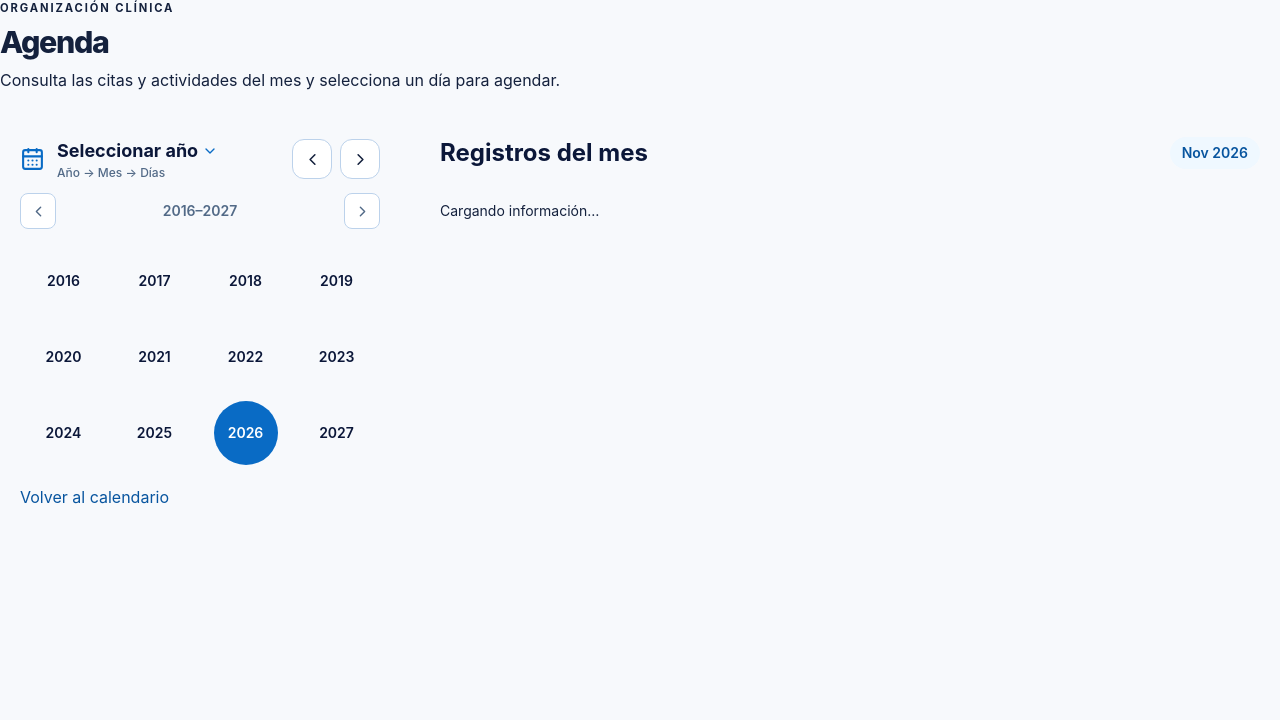
Scenario: AgendaPage consultation › selects a year, then a month, then shows the day grid without changing the booking flow
Earlier steps of the test are not shown.
Click the button "2026" at coordinates (246, 433), box [202,401,289,465]
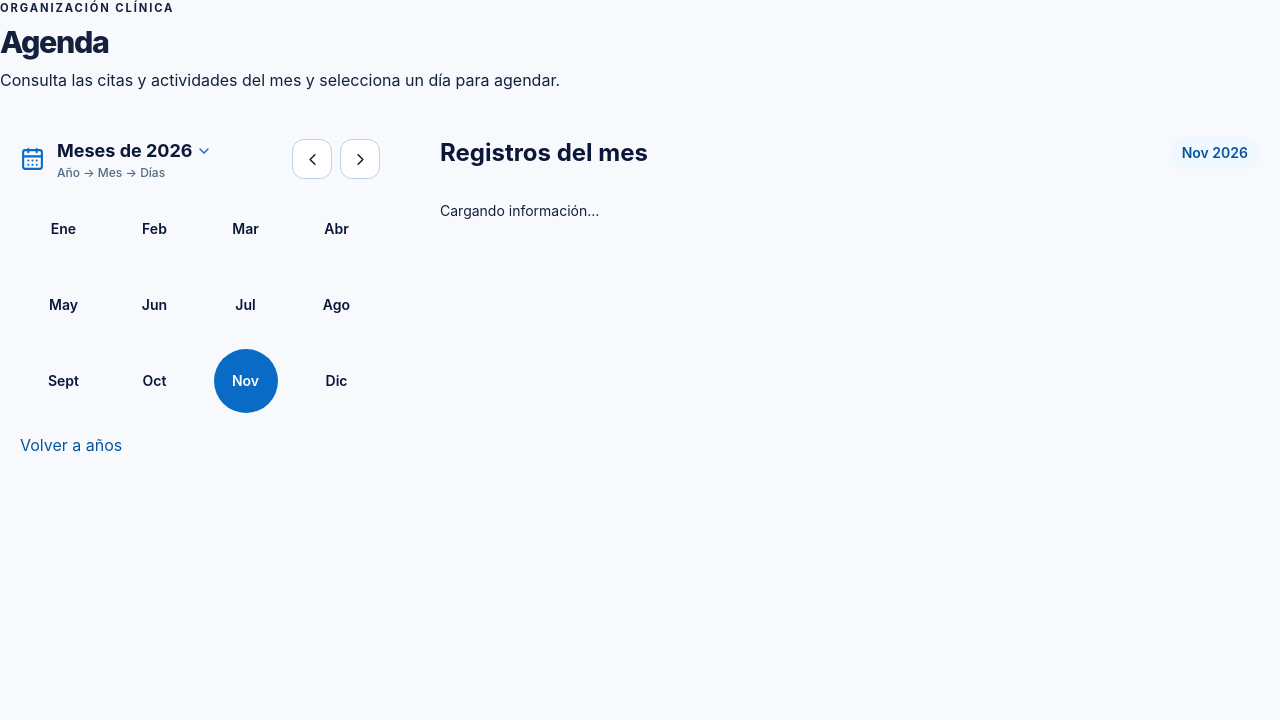
Click the button with aria-label "octubre" at coordinates (154, 381), box [111,349,198,413]
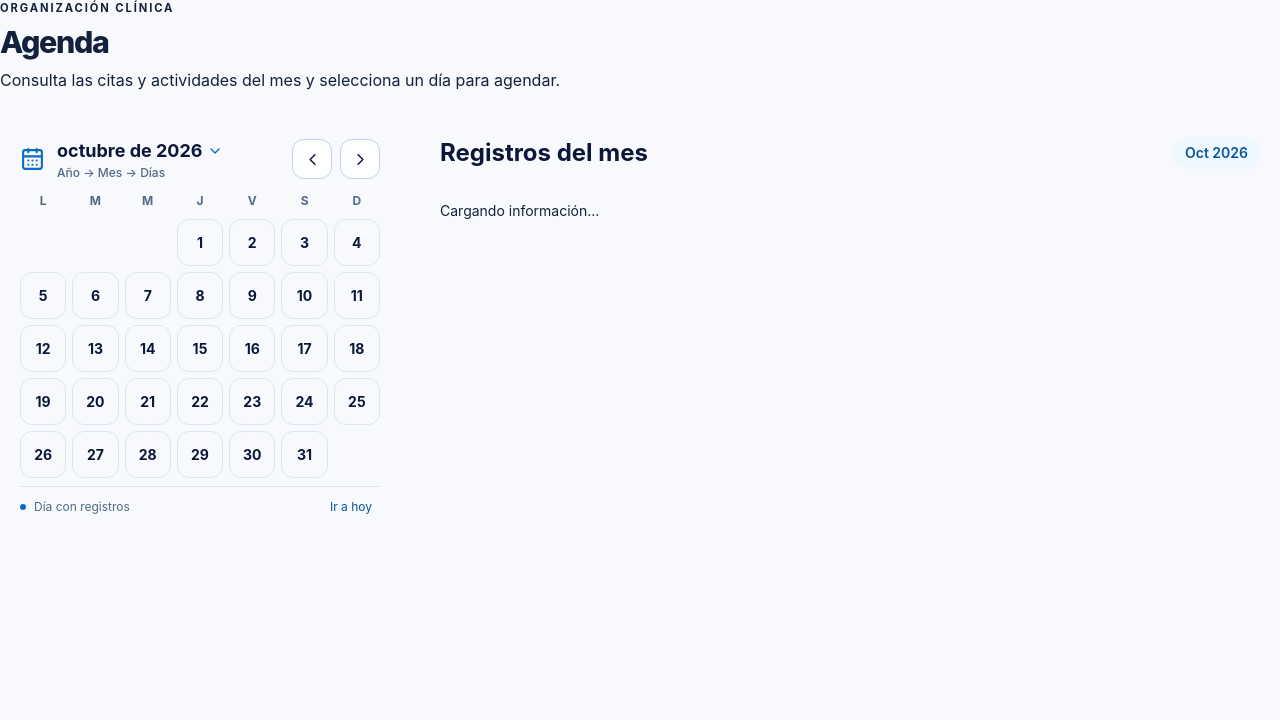
Click the button with aria-label "Seleccionar año y mes" at coordinates (140, 151), box [57,137,222,165]
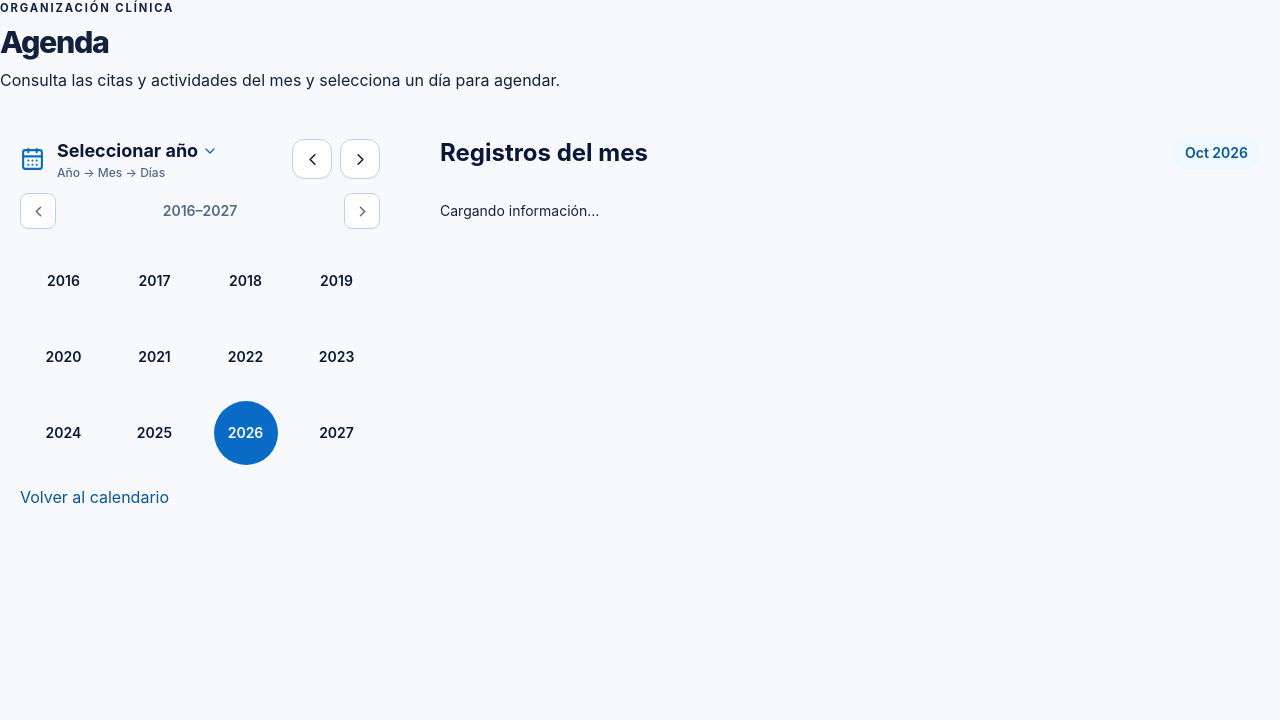
Expected: the element named "Seleccionar año" is shown, [20,193,380,509]
Click the button "2027" at coordinates (336, 433), box [293,401,380,465]
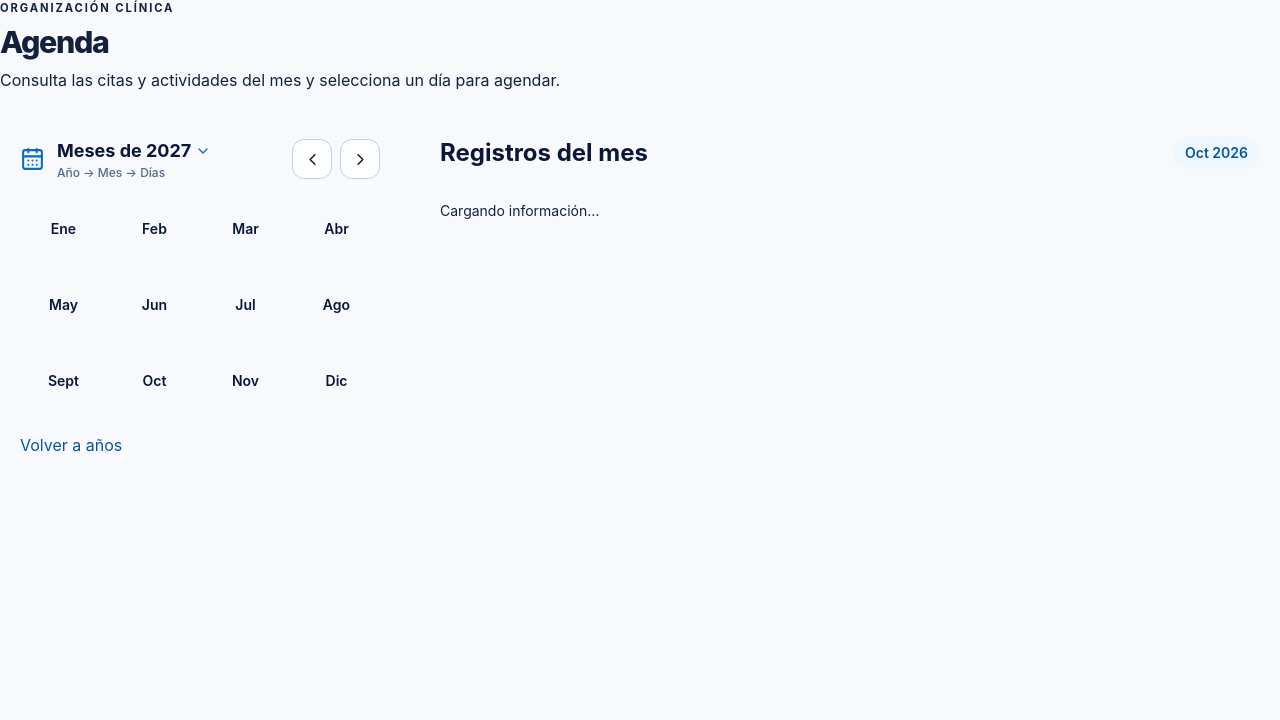
Expected: the element named "Seleccionar mes" is shown, [20,193,380,457]
Click the button with aria-label "marzo" at coordinates (246, 229), box [202,197,289,261]
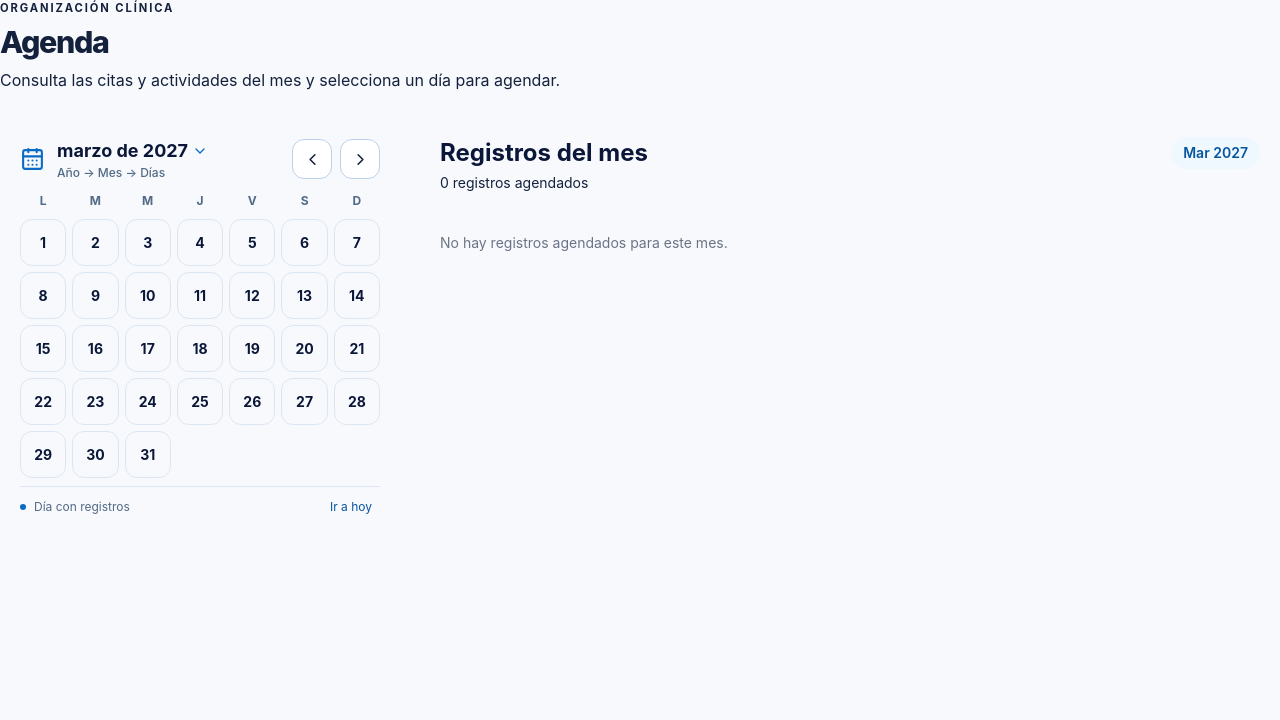
Expected: the button named "Seleccionar 1 de marzo de 2027" is shown
Expected: the button with aria-label "Seleccionar año y mes" reads "marzo de 2027", [57,137,208,165]
Click the button named "Seleccionar 1 de marzo de 2027" at coordinates (43, 243), box [20,219,66,266]
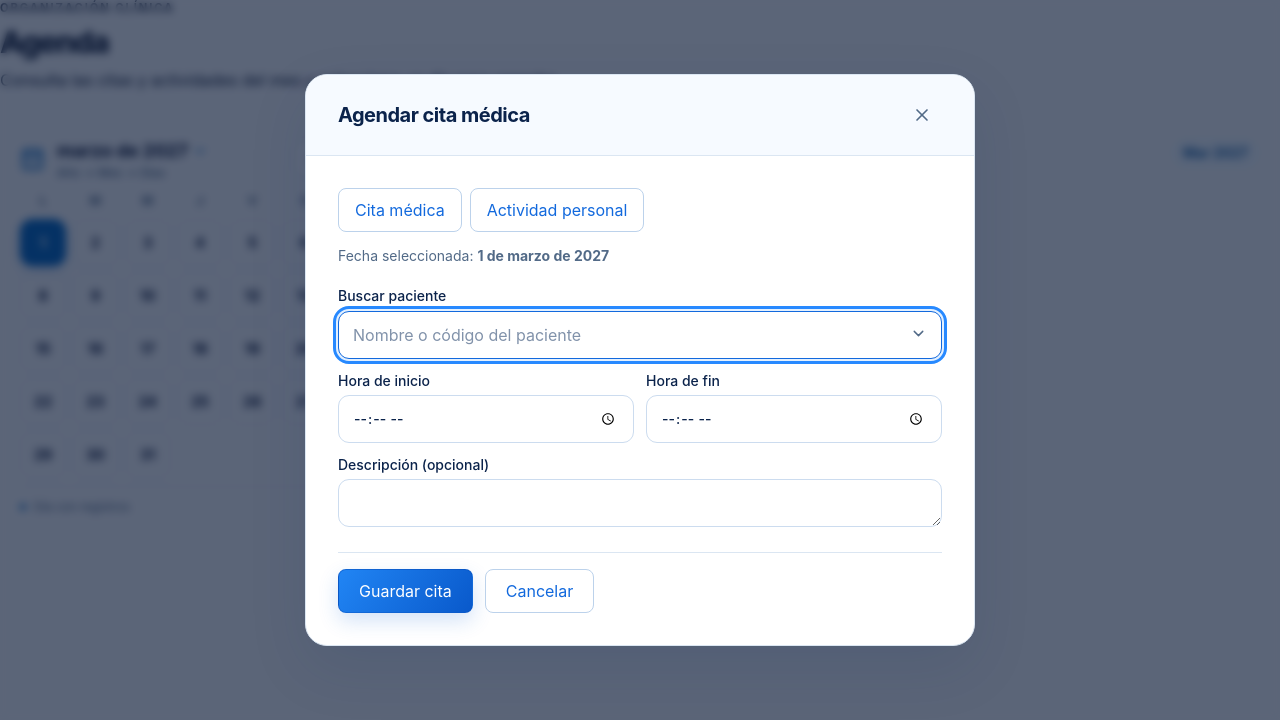
Expected: the dialog "Agendar cita médica" is shown, [305,74,975,646]
